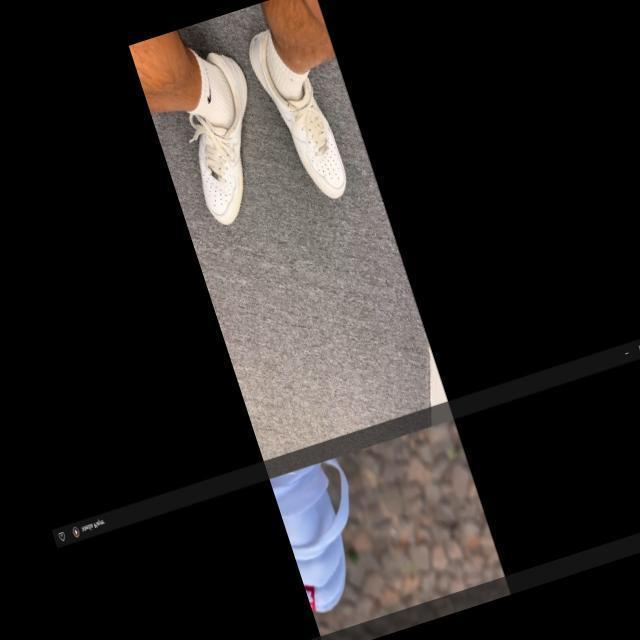nike original air force: (162, 42, 288, 230), (243, 21, 353, 212)
